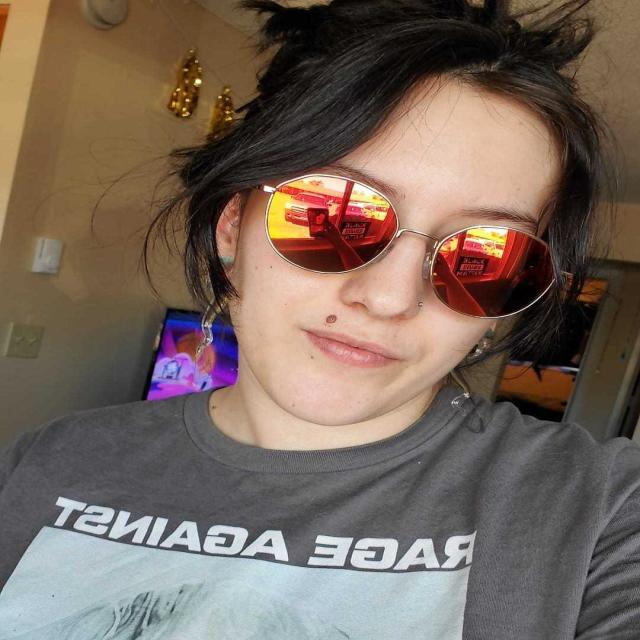2_gafas: (250, 172, 559, 320)
